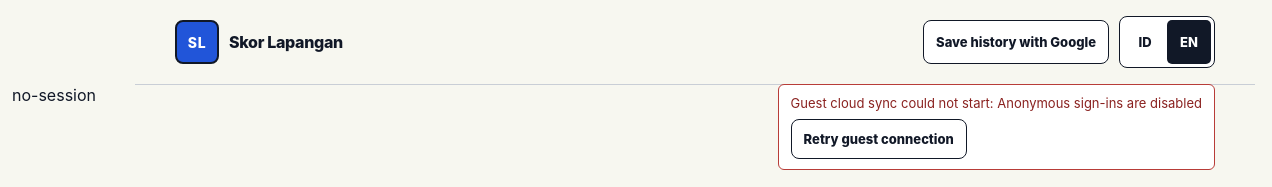
Test case: guest authentication › shows anonymous sign-in errors and retries guest sync successfully
Expected: the text "Guest cloud sync could not start: Anonymous sign-ins are disabled" is shown, [791,95,1202,111]
Click the button "Retry guest connection". click: click(879, 139)
box: [791,119,967,159]
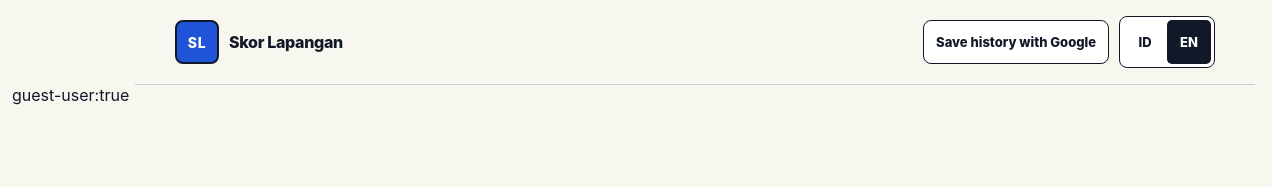
Now the text "guest-user:true" is shown, box [12,85,129,105]
Now the message is gone
